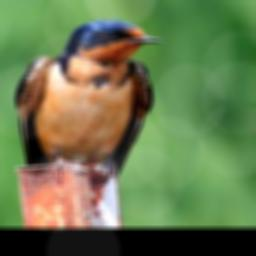Swallow: (13, 19, 163, 188)
